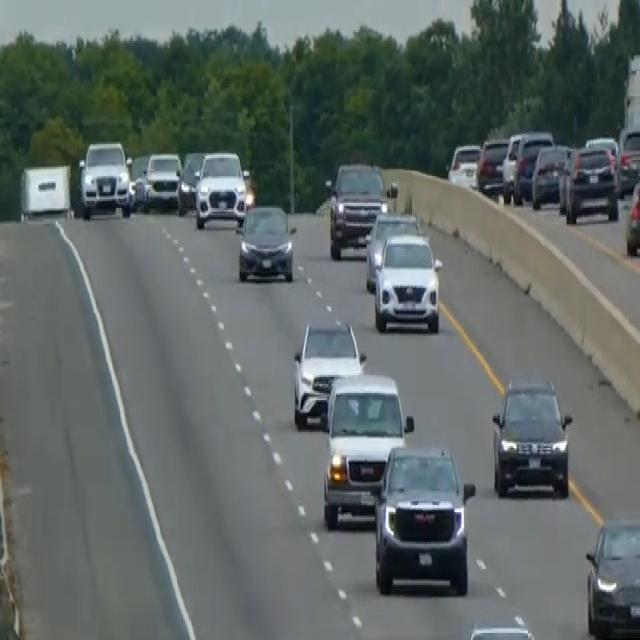car: (490, 373, 573, 498), (291, 314, 366, 428), (373, 231, 442, 333), (326, 158, 394, 258), (584, 516, 639, 638), (235, 201, 297, 283), (560, 142, 619, 224), (364, 208, 419, 292), (194, 148, 247, 230), (512, 132, 552, 202), (531, 142, 571, 210), (143, 149, 182, 210), (475, 135, 509, 196), (176, 151, 204, 215), (615, 124, 639, 194), (447, 140, 481, 188), (457, 622, 542, 638), (127, 153, 150, 210), (624, 174, 639, 258)
jeep: (371, 438, 476, 598), (77, 137, 132, 219)
lorry: (18, 162, 72, 222)
minivan: (321, 370, 413, 528)
